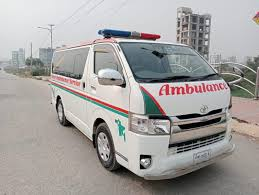Ambulance: (44, 27, 240, 182)
